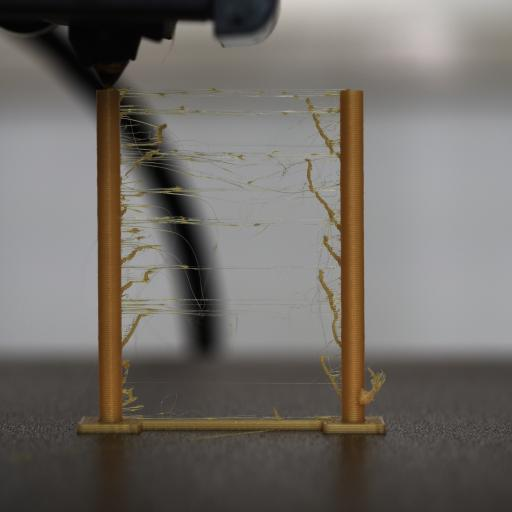stringing: (116, 82, 342, 414)
